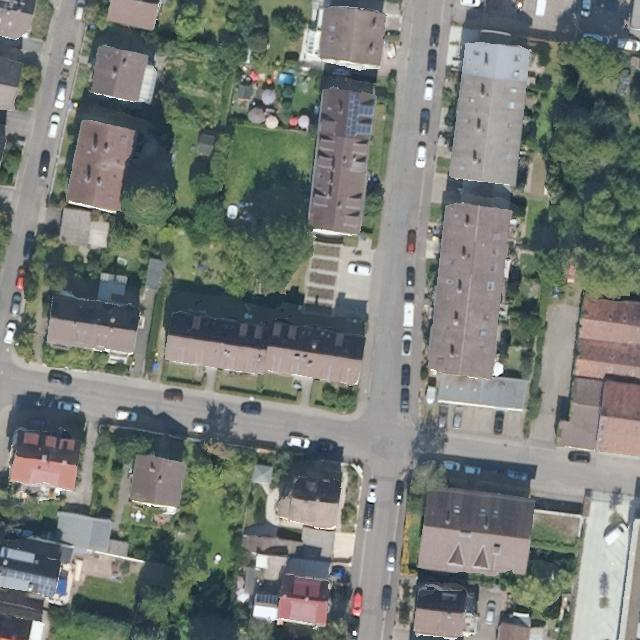PV: (344, 90, 377, 136)
